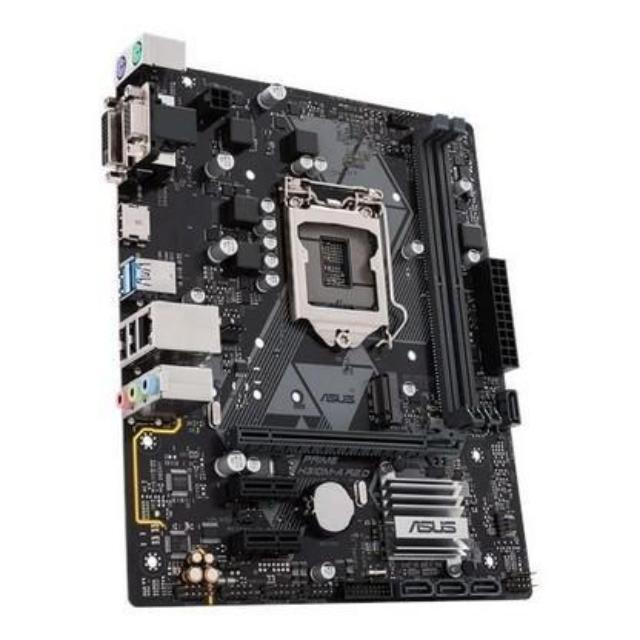Mainboard: (102, 41, 542, 614)
